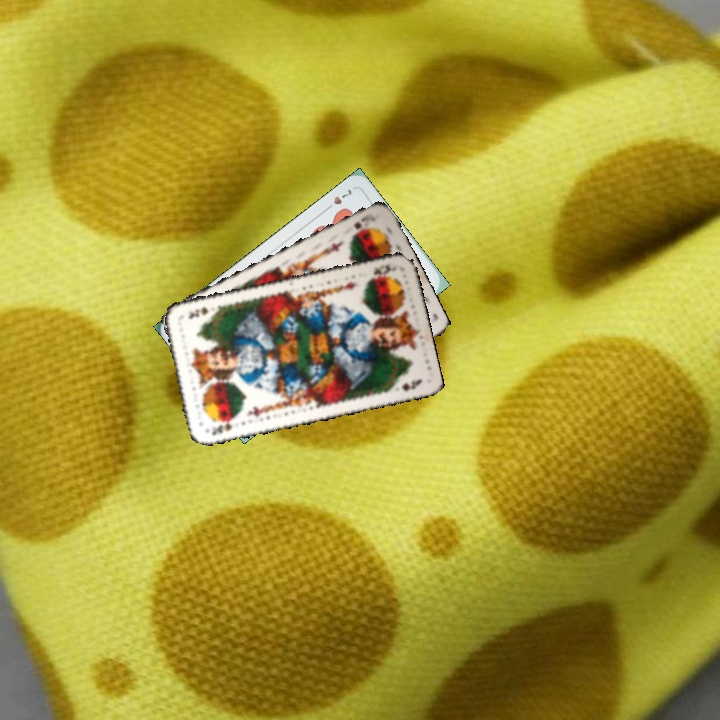H7: (321, 184, 356, 214)
SK: (346, 210, 375, 239), (208, 414, 241, 437), (366, 261, 400, 281)
